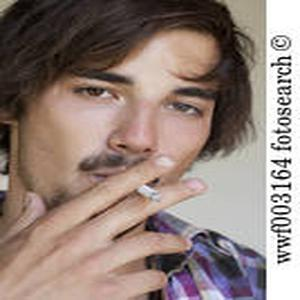cigarette: (138, 186, 161, 203)
